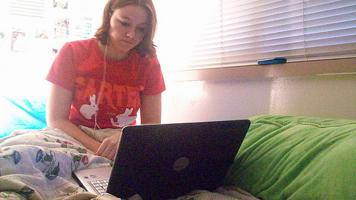person: (45, 1, 166, 164)
